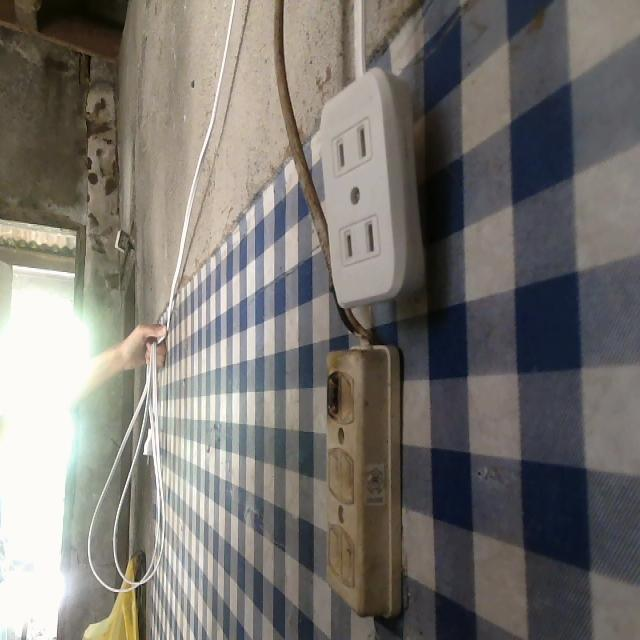-: (321, 362, 345, 427)
